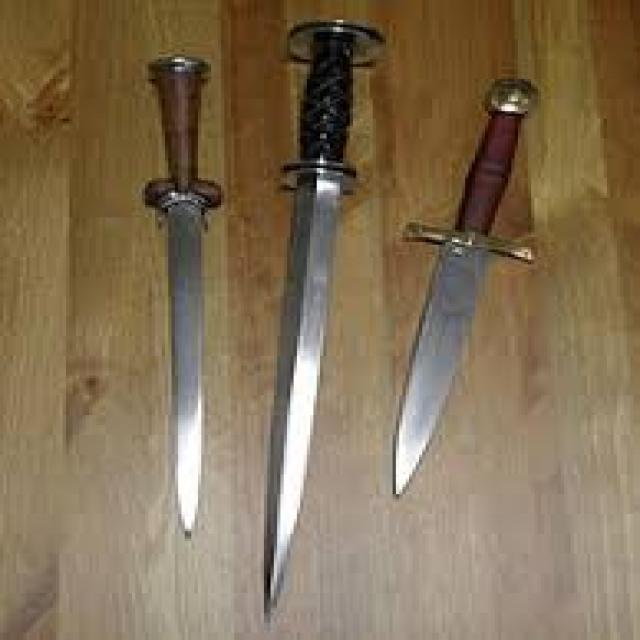Gun: (81, 38, 257, 553), (389, 66, 534, 492), (260, 14, 355, 620)
